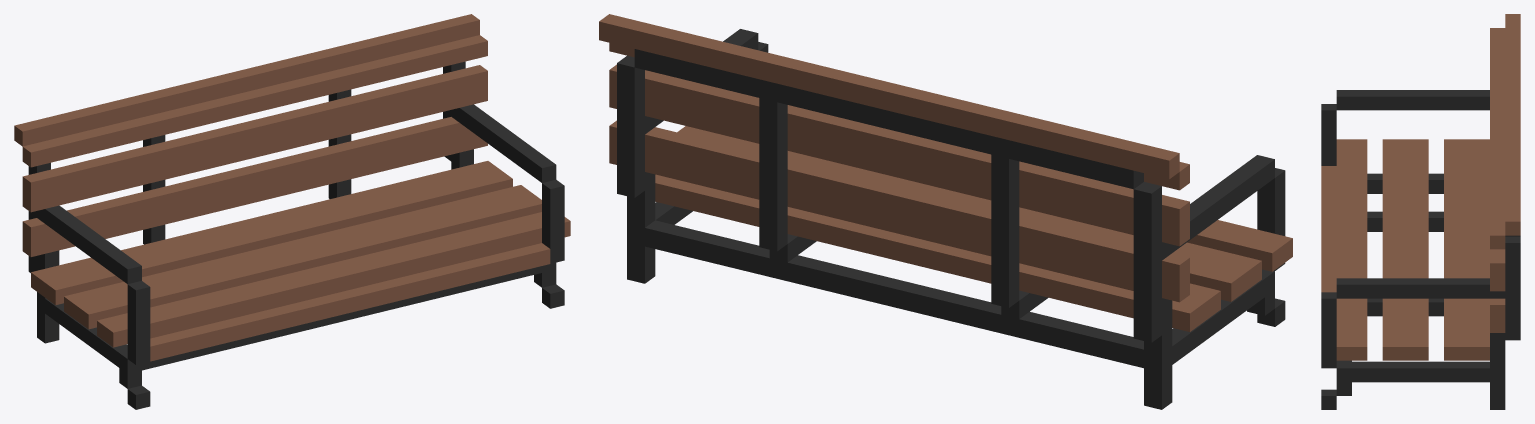
Rendered from Park_Bench_Wood_01.glb.
3 renders of one model, left to right at view 1: azimuth 30°, elevation 25°; view 2: azimuth 150°, elevation 25°; view 3: azimuth 270°, elevation 25°, orthographic. The views are drawn at different scales.
Visible parts, largest first — view 1: Park_Bench_Wood_01; view 2: Park_Bench_Wood_01; view 3: Park_Bench_Wood_01.
Part boxes in pixels (x1,y1,x2,y2): Park_Bench_Wood_01: [14, 14, 570, 409]; Park_Bench_Wood_01: [599, 14, 1292, 409]; Park_Bench_Wood_01: [1321, 14, 1520, 409].
Bounding box in the file's own units: 3.2 × 1.4 × 1.3.
Materials: 1 (1 with a texture image).
